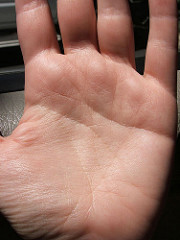palm: (29, 61, 166, 230)
